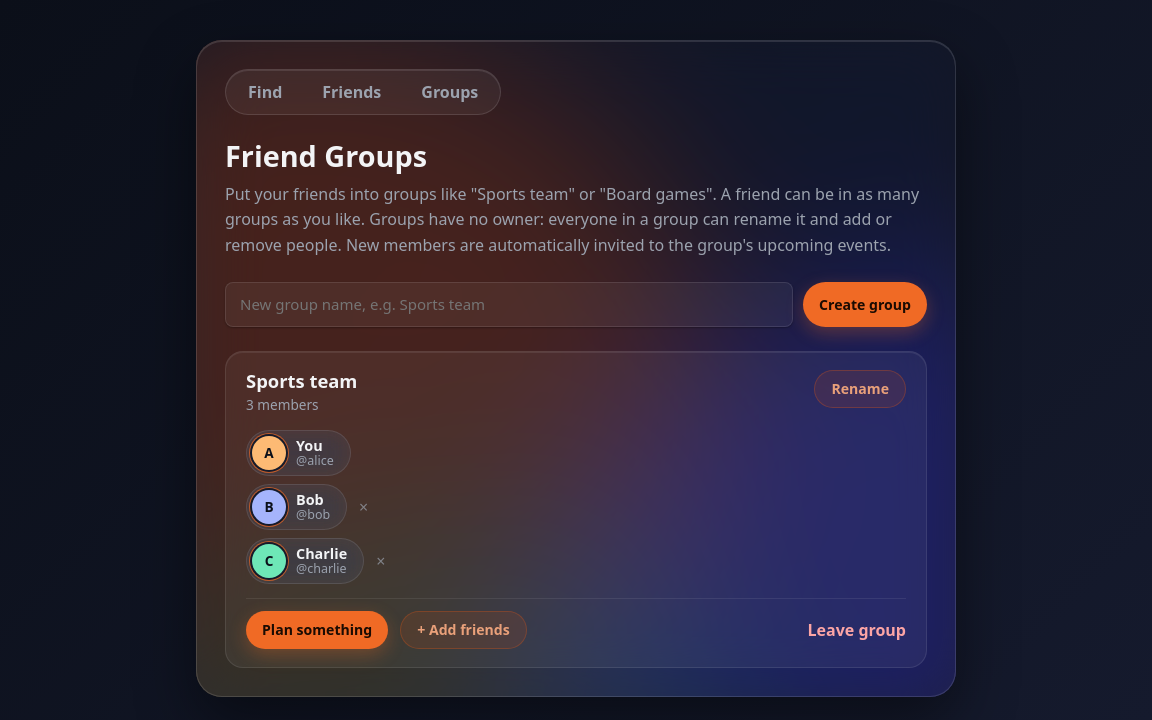
Scenario: creating a group opens the friend picker, and only friends not yet in it are offered
Type "Board games" into the field labelled "New group name".
click(509, 305); type("Board games")  # box [225,282,793,327]
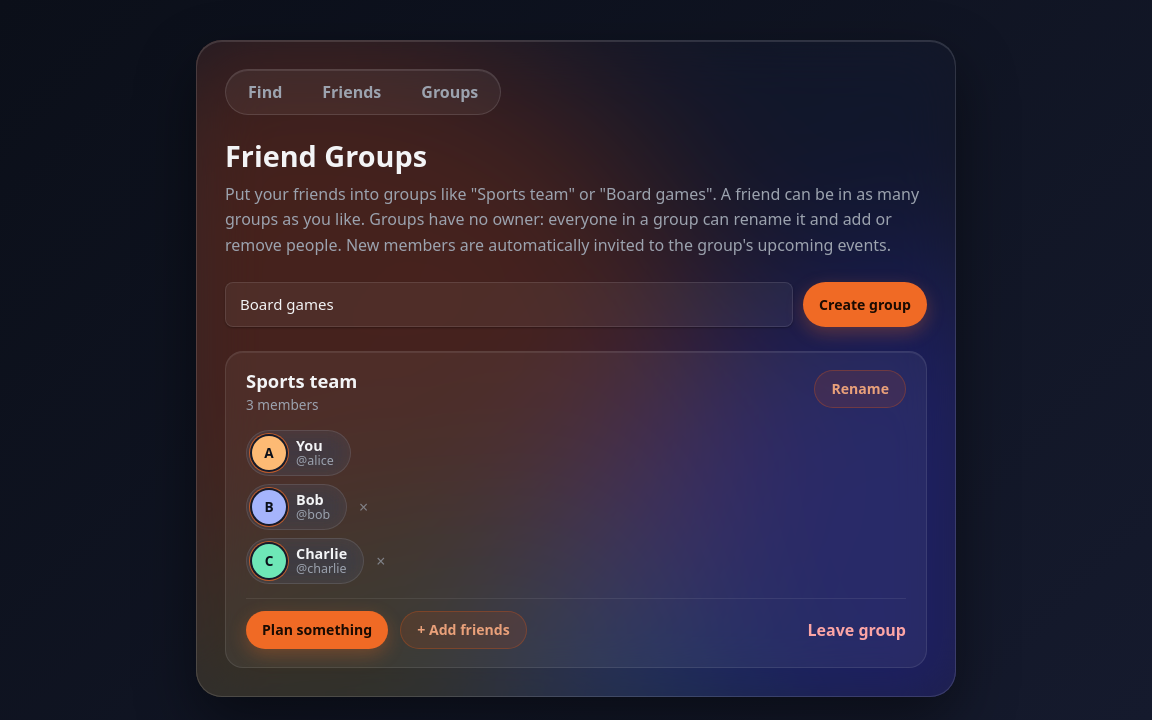
Click the button "Create group".
click(865, 305)  # box [803,282,927,327]
(page scrolled)
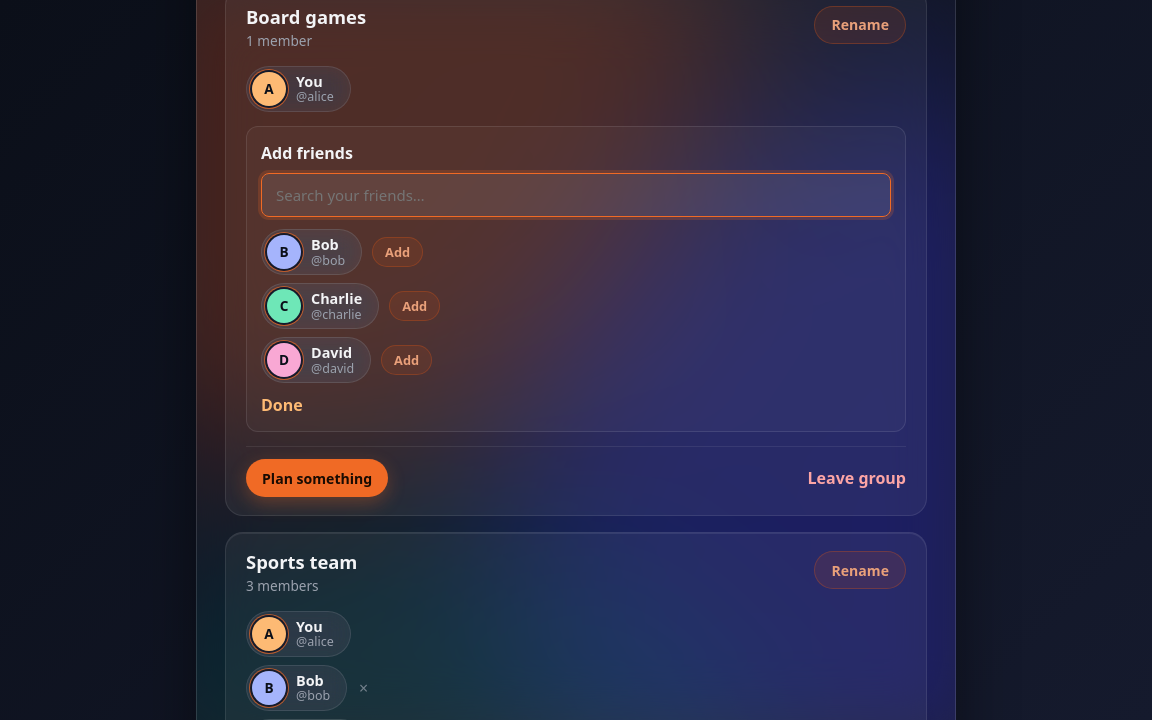
Click the button with aria-label "Add David to Board games".
click(407, 360)  # box [381,345,432,375]
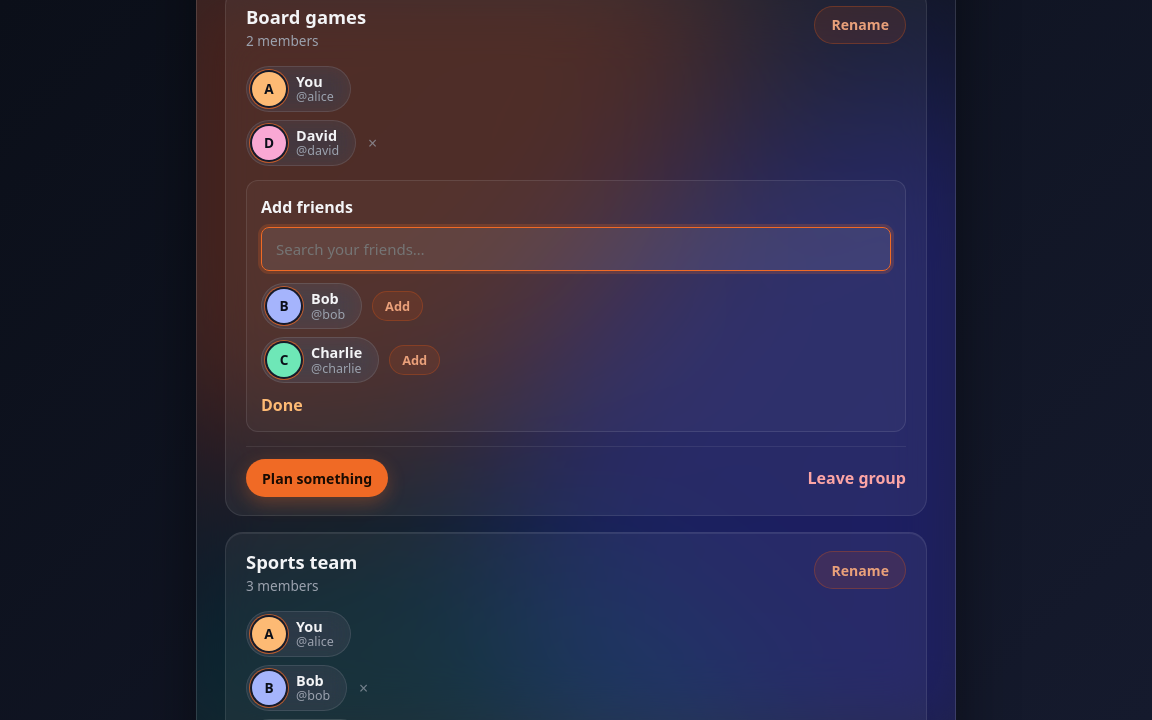
Expected: the button with aria-label "Add Bob to Board games" is shown, [372,291,423,321]
Expected: the text "2 members" is shown, [246,31,319,50]
